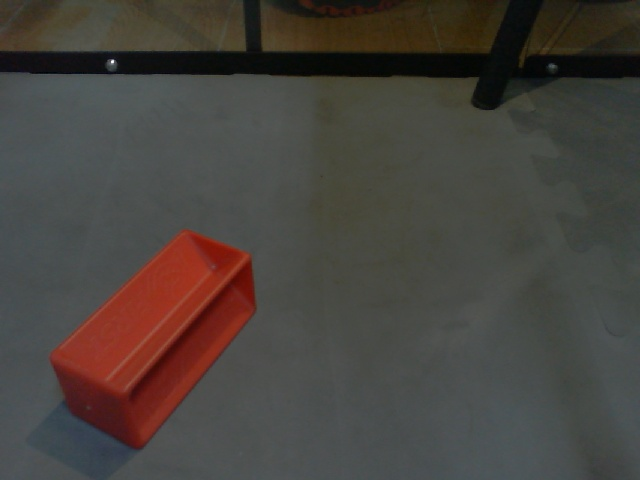RedSample: (47, 227, 259, 453)
